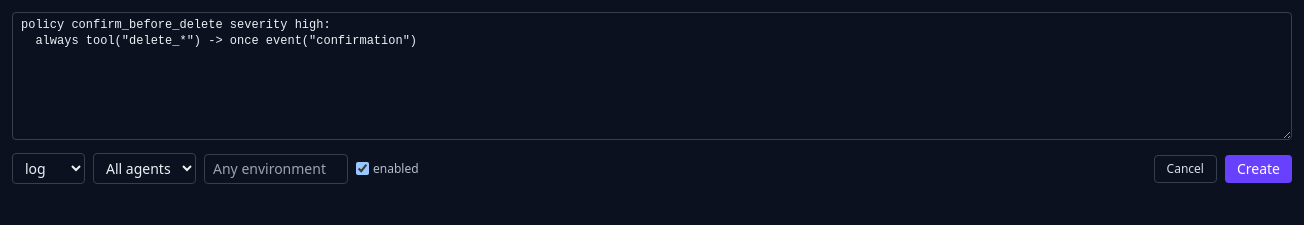
Scenario: PolicyEditor › shows other save errors as a message
Click the button "Create".
click(1258, 168)  # box [1225,154,1292,182]
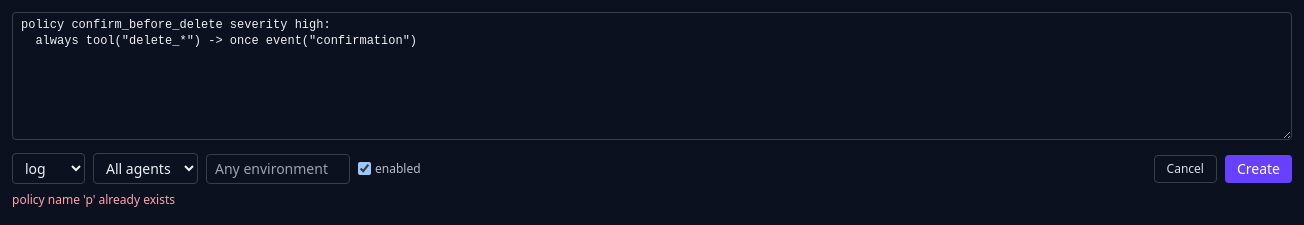
Check: the text "policy name 'p' already exists" is shown, box [12,191,175,208]
